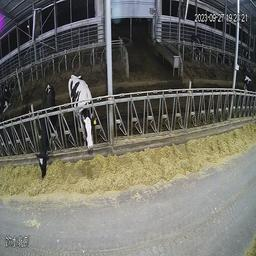cow: (65, 60, 103, 177), (29, 74, 60, 187), (0, 75, 17, 114), (243, 69, 255, 118)
